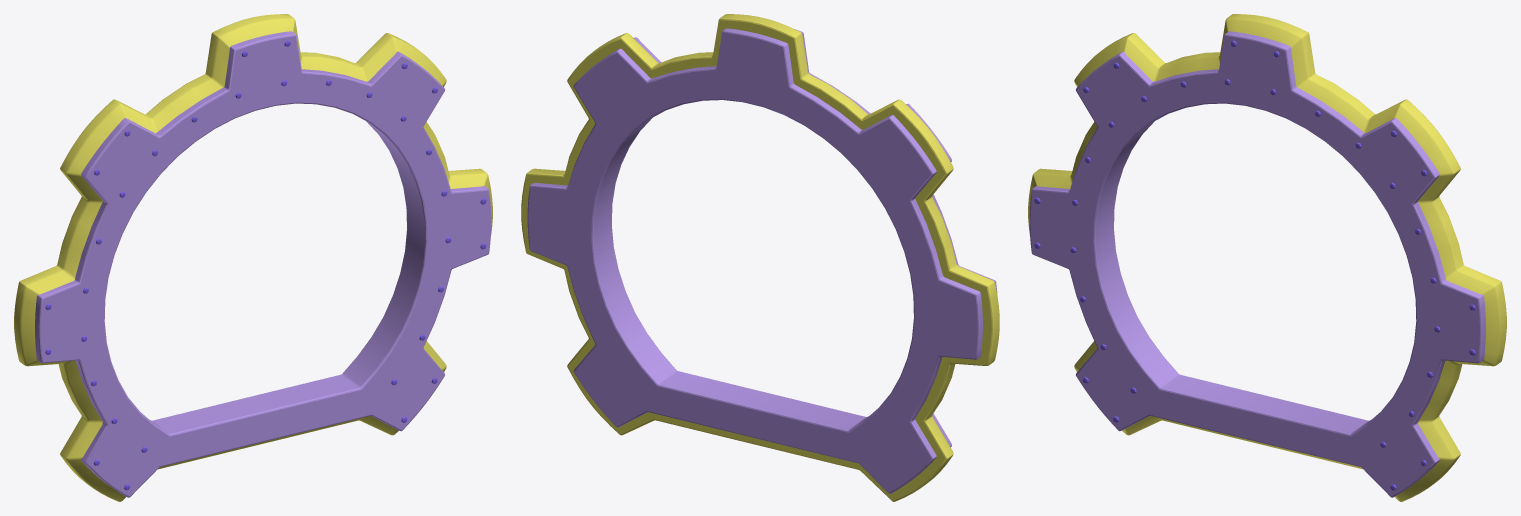
Rendered from VaultFrame 1.fbx.
The picture shows the model from 3 angles, left to right: view 1: azimuth 30°, elevation 25°; view 2: azimuth 150°, elevation 25°; view 3: azimuth 330°, elevation 25°; orthographic projection.
Parts seen in each view (by area): view 1: DoorFrame; view 2: DoorFrame; view 3: DoorFrame.
Boxes of the visible parts, x1=… form: DoorFrame: x1=14, y1=14, x2=492, y2=501; DoorFrame: x1=521, y1=14, x2=999, y2=501; DoorFrame: x1=1028, y1=14, x2=1506, y2=501.
Bounding box in the file's own units: 1564 × 1412 × 118.
